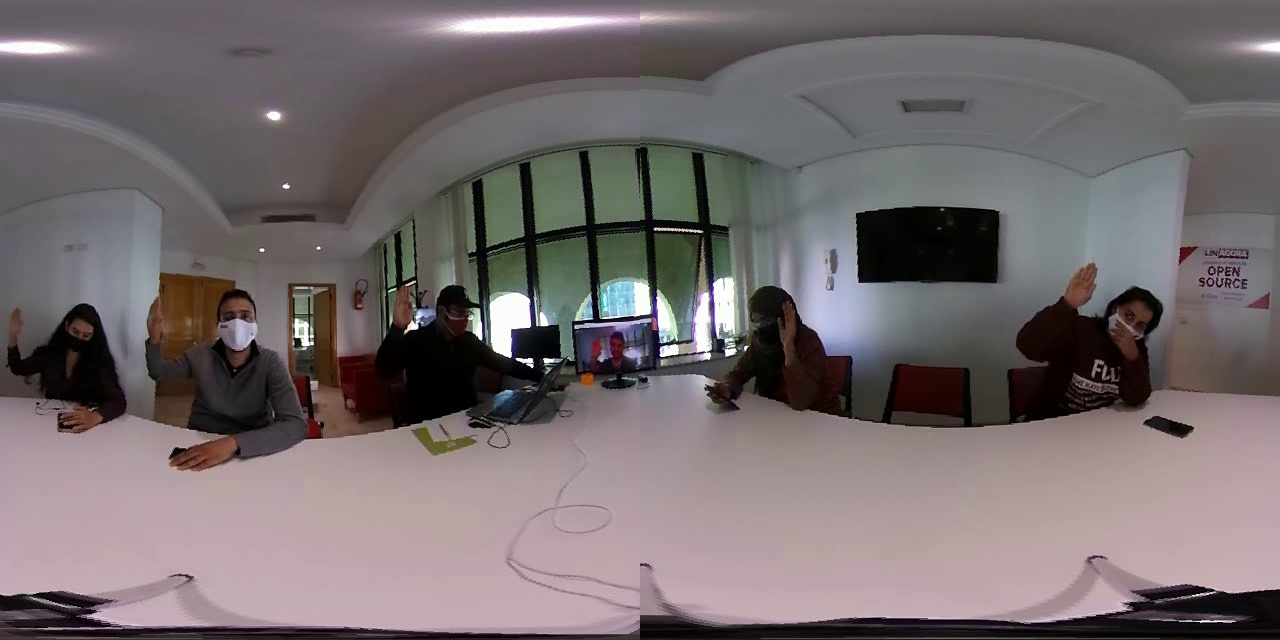person: (127, 274, 323, 462), (1017, 232, 1169, 426), (353, 256, 500, 419), (699, 269, 854, 421), (1, 278, 125, 442), (572, 308, 657, 390)
voting: (1055, 251, 1103, 367), (139, 287, 180, 394), (769, 295, 813, 392), (381, 275, 418, 377), (4, 300, 29, 384), (585, 334, 606, 376)
